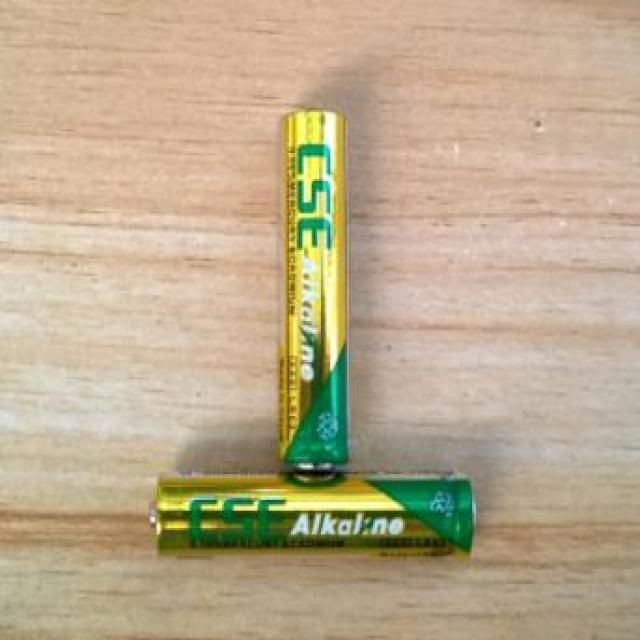-Hazardous waste - battery-: (147, 472, 477, 560), (278, 111, 350, 474)
